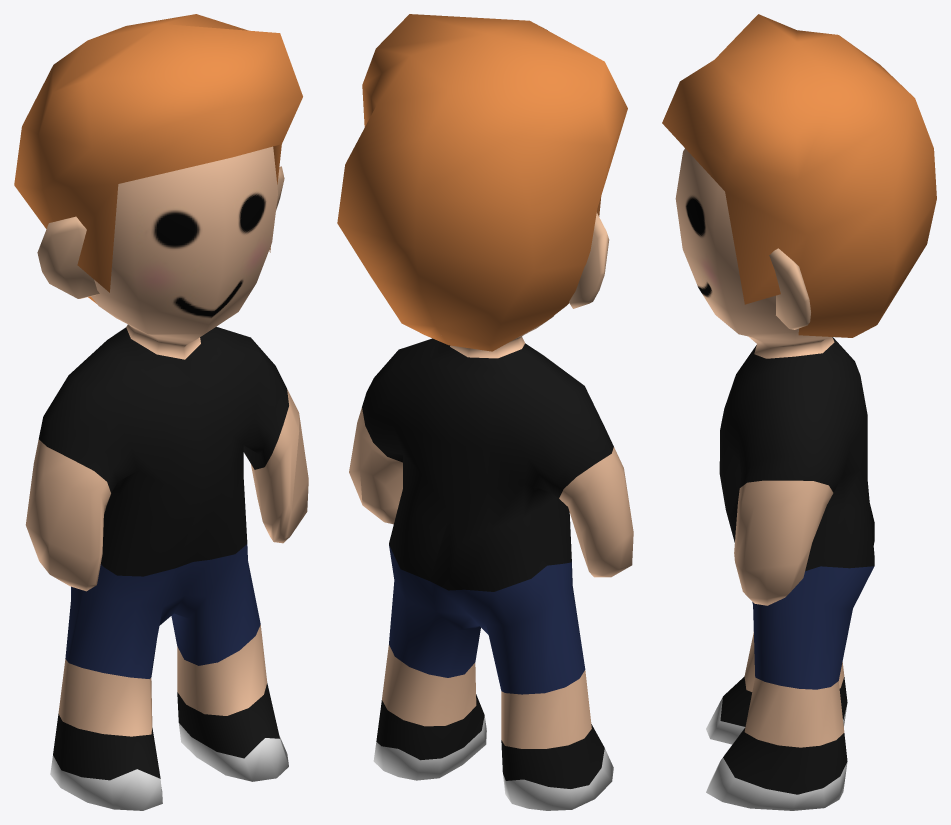
File: Voluntario_C.fbx
The picture shows the model from 3 angles, left to right: view 1: azimuth 30°, elevation 25°; view 2: azimuth 150°, elevation 25°; view 3: azimuth 270°, elevation 25°; orthographic projection. The views are drawn at different scales.
Visible parts, largest first — view 1: Cube.011; view 2: Cube.011; view 3: Cube.011.
Part boxes in pixels (left/top/right/bottom): Cube.011: left=14, top=14, right=308, bottom=810; Cube.011: left=337, top=14, right=633, bottom=810; Cube.011: left=662, top=14, right=936, bottom=810.
Bounding box in the file's own units: 86.46 × 223 × 77.25.
